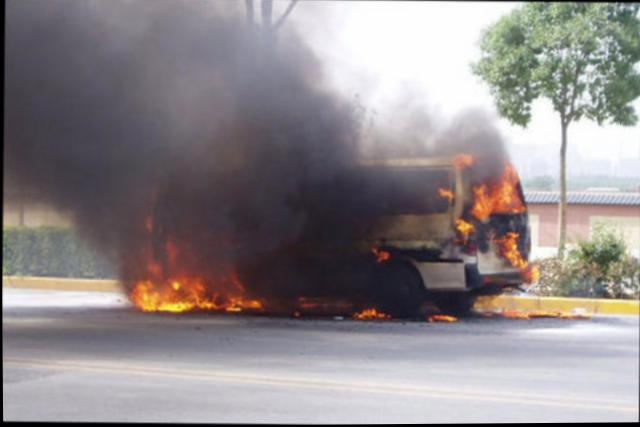fire: (120, 206, 265, 313), (438, 151, 539, 273), (346, 303, 389, 321), (424, 304, 453, 322), (363, 241, 389, 260)
